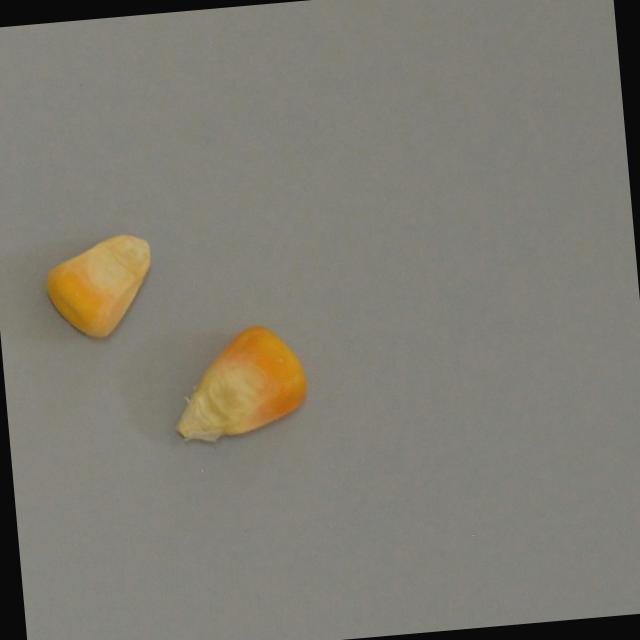entero: (158, 314, 314, 456), (34, 221, 168, 344)
